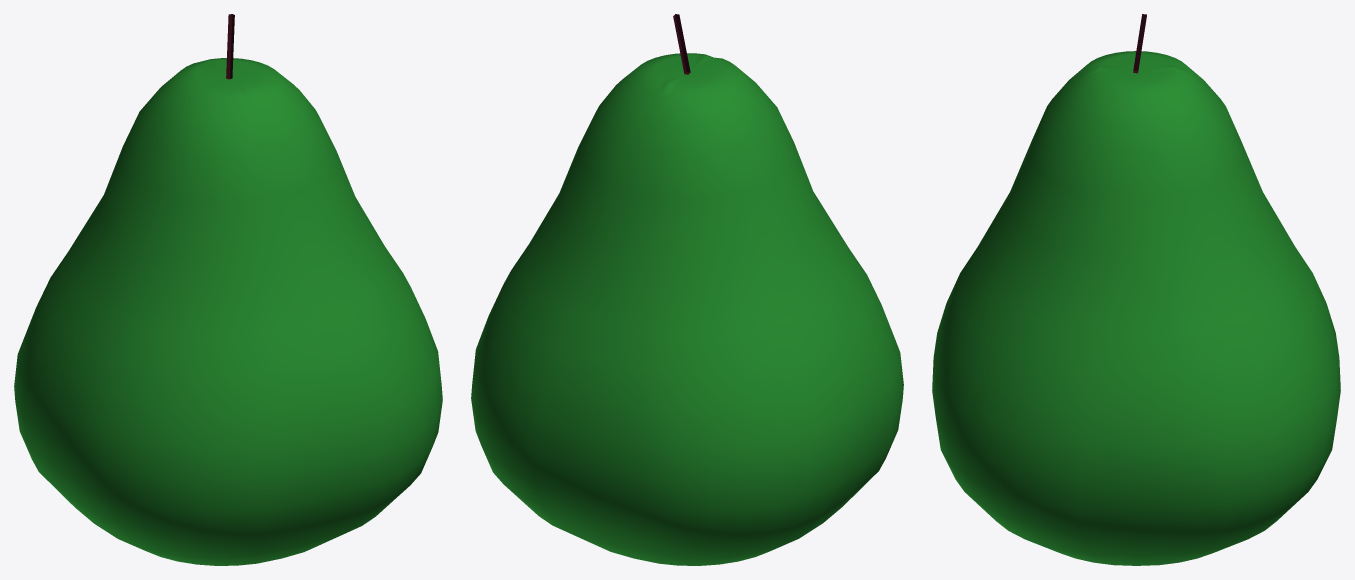
The model's file is pear.fbx.
3 views of the same model, side by side, from view 1: azimuth 30°, elevation 25°; view 2: azimuth 150°, elevation 25°; view 3: azimuth 270°, elevation 25° (orthographic).
Visible parts, largest first — view 1: Sphere; view 2: Sphere; view 3: Sphere.
Part boxes in pixels (bbox=[...]): Sphere: bbox=[14, 14, 442, 565]; Sphere: bbox=[471, 14, 903, 565]; Sphere: bbox=[932, 14, 1340, 565].
Size of the model in its own units: 225 by 313 by 218.
